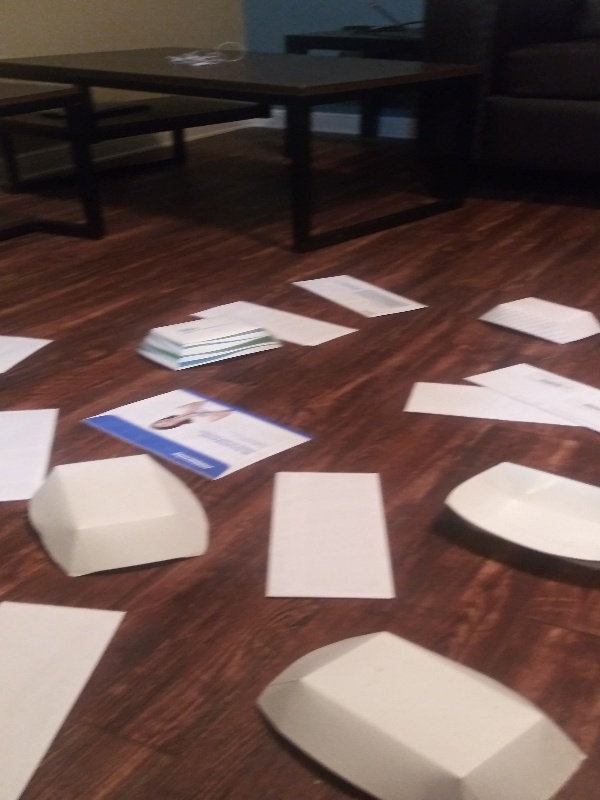plate: (249, 628, 594, 800), (21, 447, 216, 585), (439, 457, 600, 579), (130, 312, 287, 378), (471, 292, 600, 351)
